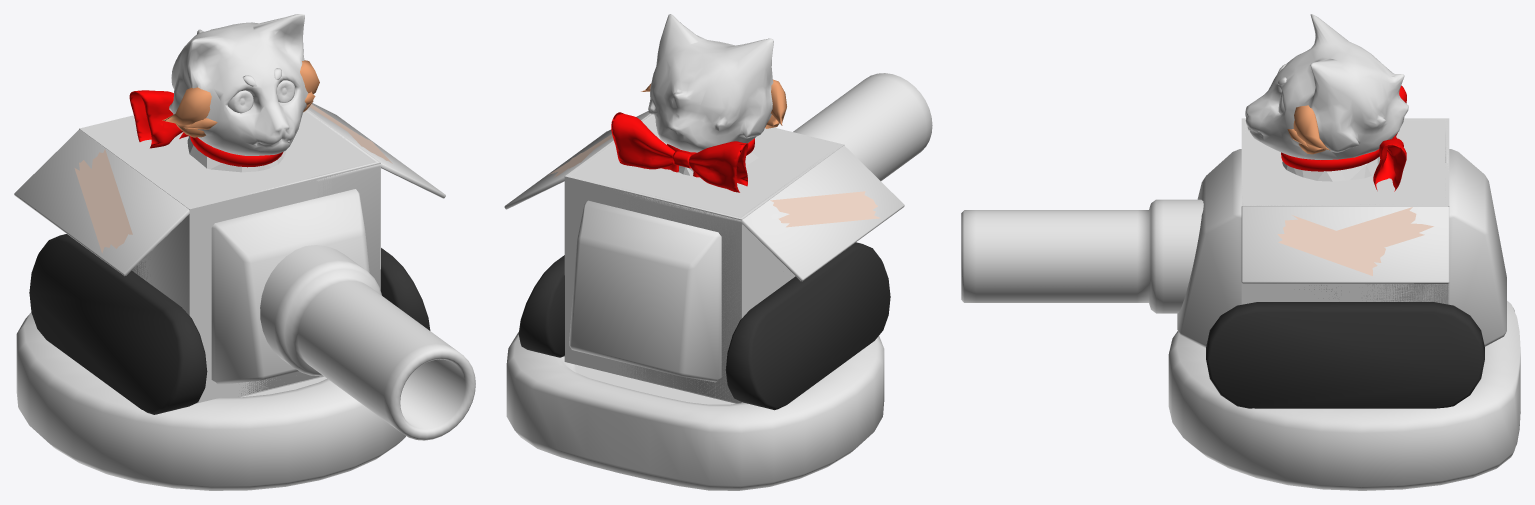
The model's file is Player.fbx.
3 views of the same model, side by side, from view 1: azimuth 30°, elevation 25°; view 2: azimuth 150°, elevation 25°; view 3: azimuth 270°, elevation 25° (orthographic). The views are drawn at different scales.
Visible parts, largest first — view 1: Cylinder, Cylinder.002, Cylinder.003, Cube.001, Cube, Cube.002, base head, NurbsPath.002, bow, hair tufts, collar, base body; view 2: Cylinder, Cube.002, Cylinder.003, Cube, Cube.001, base head, Cylinder.002, bow, NurbsPath.002, hair tufts; view 3: Cylinder, Cylinder.003, Cylinder.002, Cube.002, Cube, base head, Cube.001, NurbsPath.001, NurbsPath, bow, hair tufts, collar (+1 smaller).
Part boxes in pixels (x1,y1,x2,y2): Cylinder: [16, 312, 405, 490]; Cylinder.002: [260, 245, 475, 440]; Cylinder.003: [29, 234, 430, 414]; Cube.001: [14, 103, 445, 395]; Cube: [79, 109, 380, 403]; Cube.002: [211, 189, 369, 384]; base head: [169, 14, 308, 155]; NurbsPath.002: [74, 149, 132, 253]; bow: [129, 90, 188, 148]; hair tufts: [162, 60, 319, 137]; collar: [190, 136, 283, 167]; base body: [187, 136, 285, 172]; Cylinder: [506, 332, 884, 490]; Cube.002: [569, 200, 721, 382]; Cylinder.003: [518, 242, 890, 410]; Cube: [564, 113, 844, 403]; Cube.001: [504, 111, 904, 403]; base head: [648, 14, 773, 152]; Cylinder.002: [793, 73, 932, 180]; bow: [611, 112, 748, 192]; NurbsPath.002: [770, 191, 880, 227]; hair tufts: [641, 79, 786, 128]; Cylinder: [1168, 301, 1520, 490]; Cylinder.003: [1206, 302, 1484, 408]; Cylinder.002: [961, 199, 1203, 313]; Cube.002: [1177, 149, 1506, 347]; Cube: [1241, 118, 1449, 304]; base head: [1245, 14, 1408, 159]; Cube.001: [1241, 119, 1449, 304]; NurbsPath.001: [1325, 207, 1433, 260]; NurbsPath: [1277, 215, 1385, 275]; bow: [1373, 85, 1406, 191]; hair tufts: [1287, 105, 1330, 154]; collar: [1281, 149, 1379, 171].
Bounding box in the file's own units: 362 × 400 × 539.
